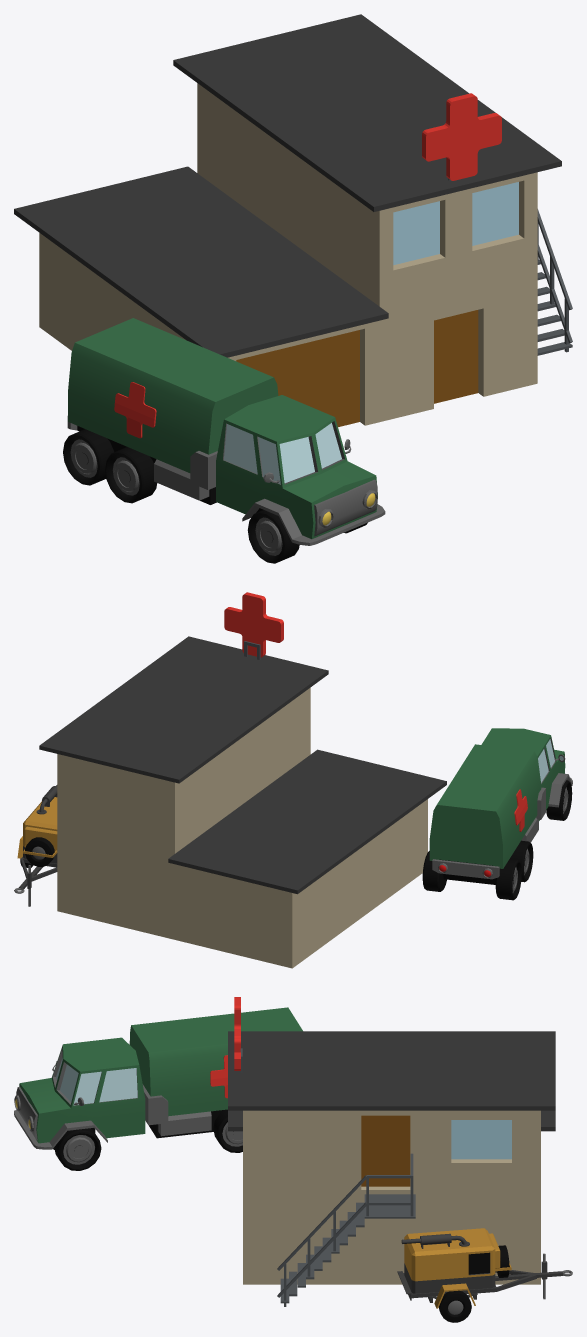
The model's file is hospital_forest.fbx.
The picture shows the model from 3 angles, top to bottom: view 1: azimuth 30°, elevation 25°; view 2: azimuth 150°, elevation 25°; view 3: azimuth 270°, elevation 25°; orthographic projection. The views are drawn at different scales.
Visible parts, largest first — view 1: hospital_building, paramedical_truck, hospital, ladder; view 2: hospital_building, paramedical_truck, Generator, hospital; view 3: hospital_building, paramedical_truck, Generator, ladder, hospital.
Boxes of the visible parts, <box> form: hospital_building: <box>14,14,561,427</box>; paramedical_truck: <box>63,318,385,563</box>; hospital: <box>422,93,501,180</box>; ladder: <box>537,209,572,355</box>; hospital_building: <box>39,636,446,968</box>; paramedical_truck: <box>422,728,572,900</box>; Generator: <box>14,785,57,906</box>; hospital: <box>224,592,283,659</box>; hospital_building: <box>228,1031,555,1284</box>; paramedical_truck: <box>14,1007,302,1170</box>; Generator: <box>397,1228,572,1322</box>; ladder: <box>277,1153,415,1306</box>; hospital: <box>234,997,242,1072</box>.
Bounding box in the file's own units: 1224 × 653 × 1313.
